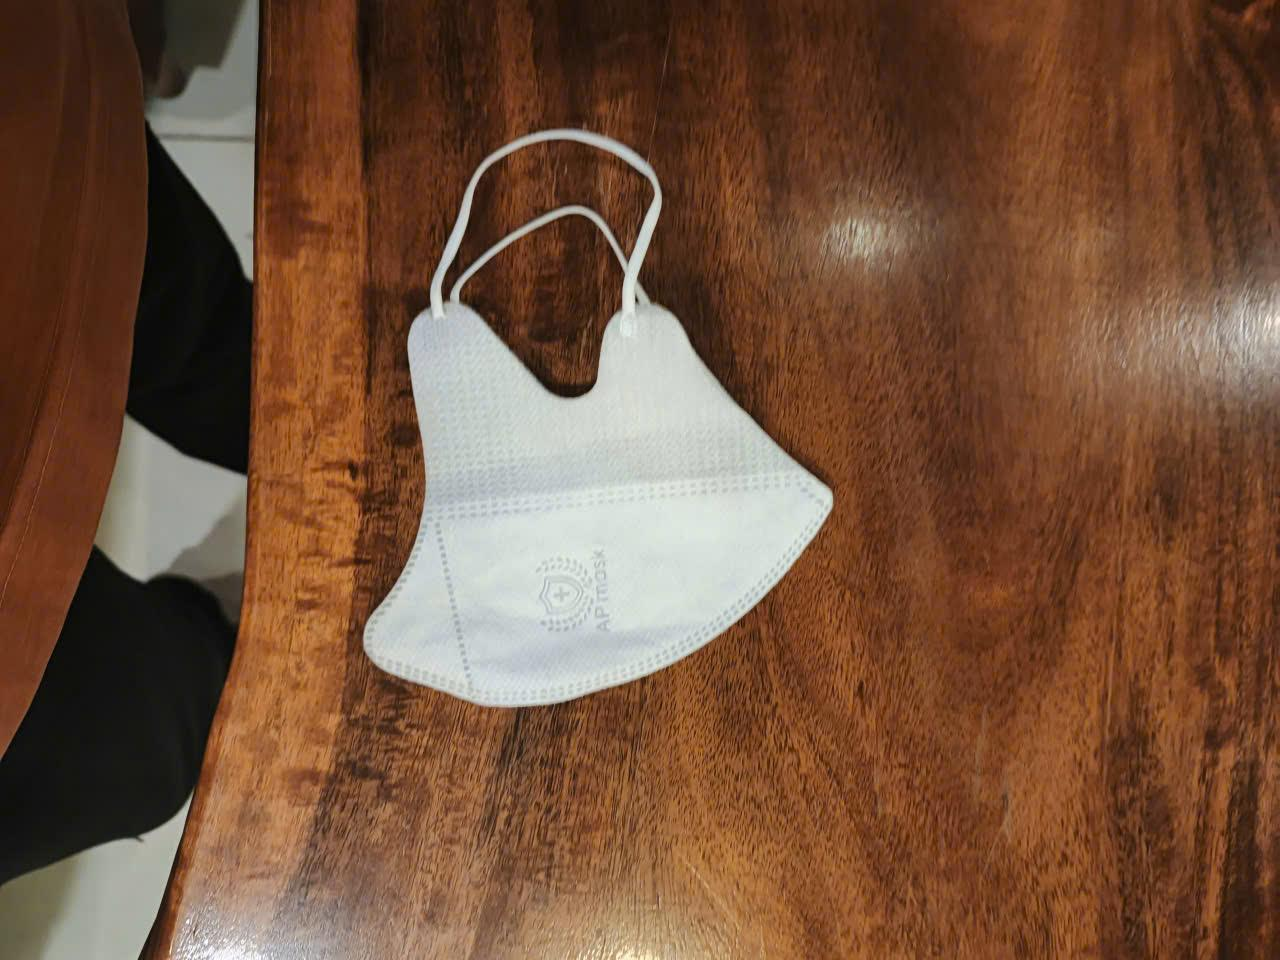Con lai: (364, 132, 834, 710)
